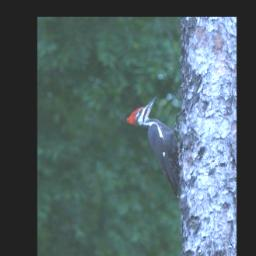Woodpecker: (128, 92, 184, 202)
